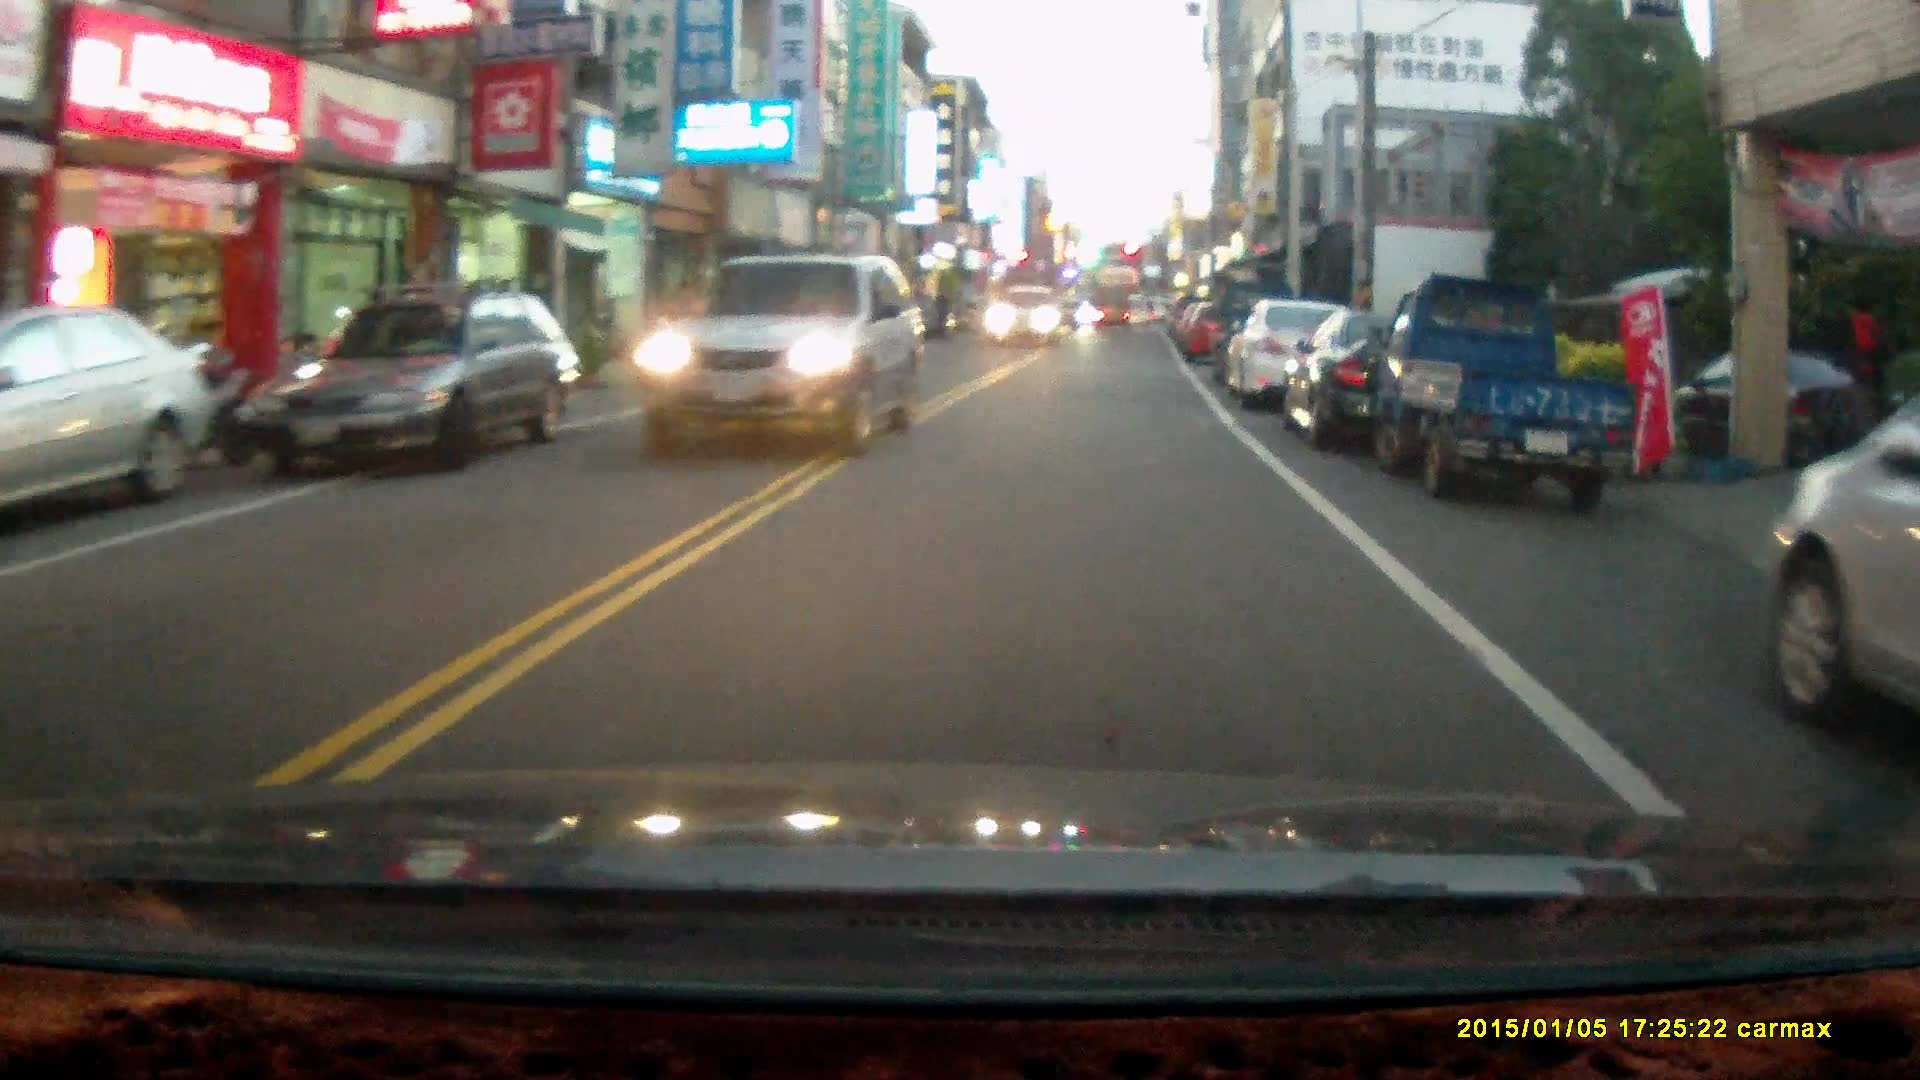pedestrian: (1837, 295, 1895, 484)
vehicle: (1369, 269, 1657, 512), (230, 286, 585, 480), (638, 250, 931, 456), (1766, 395, 1920, 744), (1292, 309, 1518, 446), (1224, 300, 1381, 409), (984, 287, 1067, 349)
